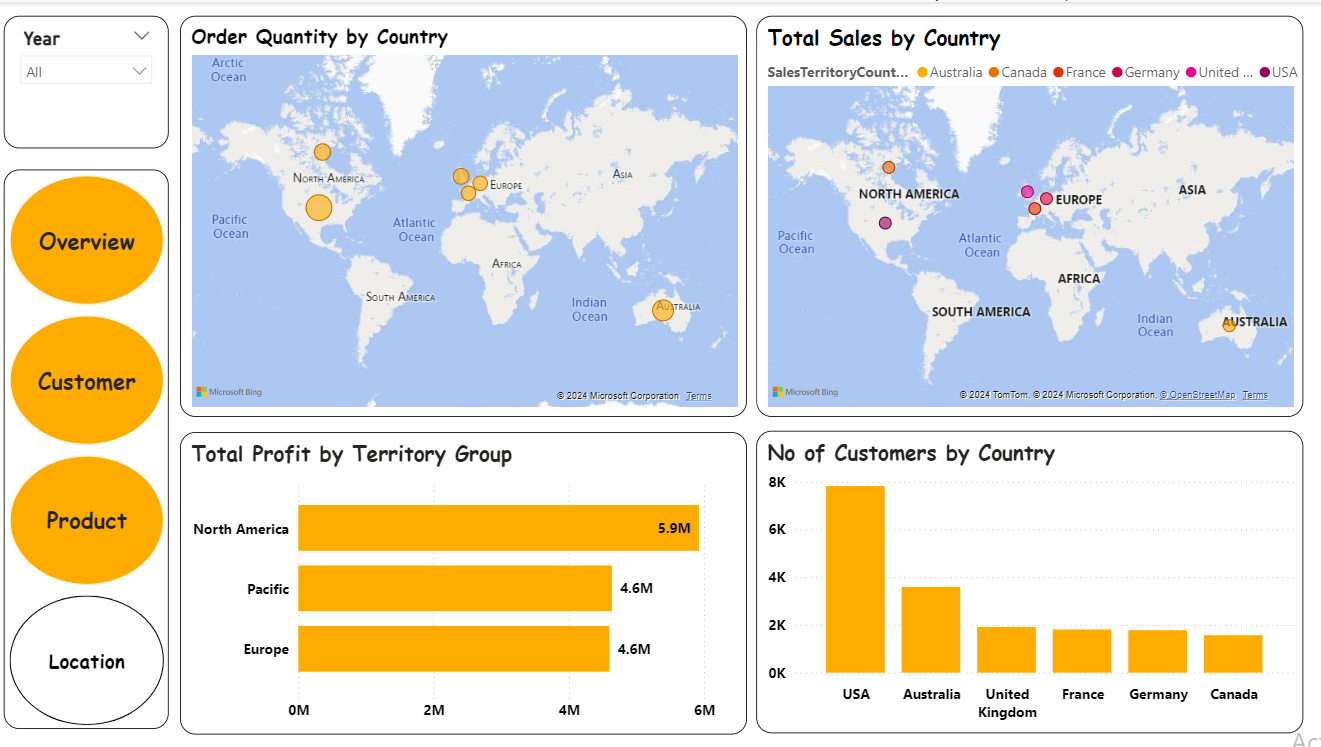

This screenshot's page, from the dashboard's own definition file:
{"tool":"powerbi","page":{"name":"Location","canvas":[1280,720],"ordinal":3},"visuals":[{"type":"map","title":"Total Sales by Country","fields":{"Category":["SalesTerritory.SalesTerritoryCountry"],"Series":["SalesTerritory.SalesTerritoryCountry"]},"box":[734.1,13.7,528.3,387],"z":0},{"type":"map","title":"Order Quantity by Country","fields":{"Category":["SalesTerritory.SalesTerritoryCountry"],"Size":["Sum(InternetSale.OrderQuantity)"]},"box":[178.5,13.3,547.5,387.1],"z":1000},{"type":"clusteredBarChart","title":"Total Profit by Territory Group","fields":{"Y":["My Measures.Total Profit"],"Category":["SalesTerritory.SalesTerritoryGroup"]},"box":[178.5,414.9,547.5,291.9],"z":2000},{"type":"clusteredColumnChart","title":"No of Customers by Country","fields":{"Category":["SalesTerritory.SalesTerritoryCountry"],"Y":["My Measures.No of Customers"]},"box":[734.1,414.4,528.3,292.3],"z":3000},{"type":"pageNavigator","box":[9,162,159,540],"z":4000},{"type":"slicer","fields":{"Values":["InternetSale.Year"]},"box":[8.4,13.3,159.2,127.8],"z":5000}]}

Visuals, with their boxes in screenshot pixels (x1, y1, x2, y2), scaled from the page's 1280x720 canvas onto the 1321x747 screenshot:
"Total Sales by Country" map: select_region(758, 14, 1303, 416)
"Order Quantity by Country" map: select_region(184, 14, 749, 415)
"Total Profit by Territory Group" clusteredBarChart: select_region(184, 430, 749, 733)
"No of Customers by Country" clusteredColumnChart: select_region(758, 430, 1303, 733)
pageNavigator: select_region(9, 168, 173, 728)
slicer - InternetSale.Year: select_region(9, 14, 173, 146)
